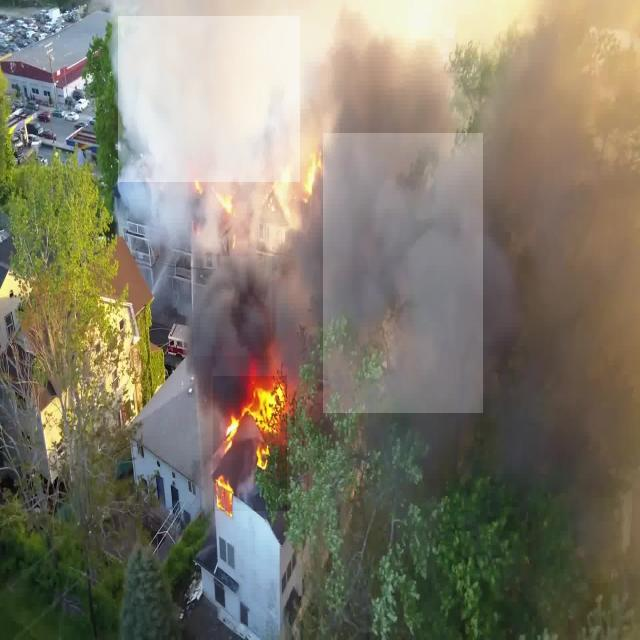Fire: (213, 376, 287, 511)
Smoke: (323, 133, 483, 413), (118, 16, 300, 182), (194, 256, 272, 356)
